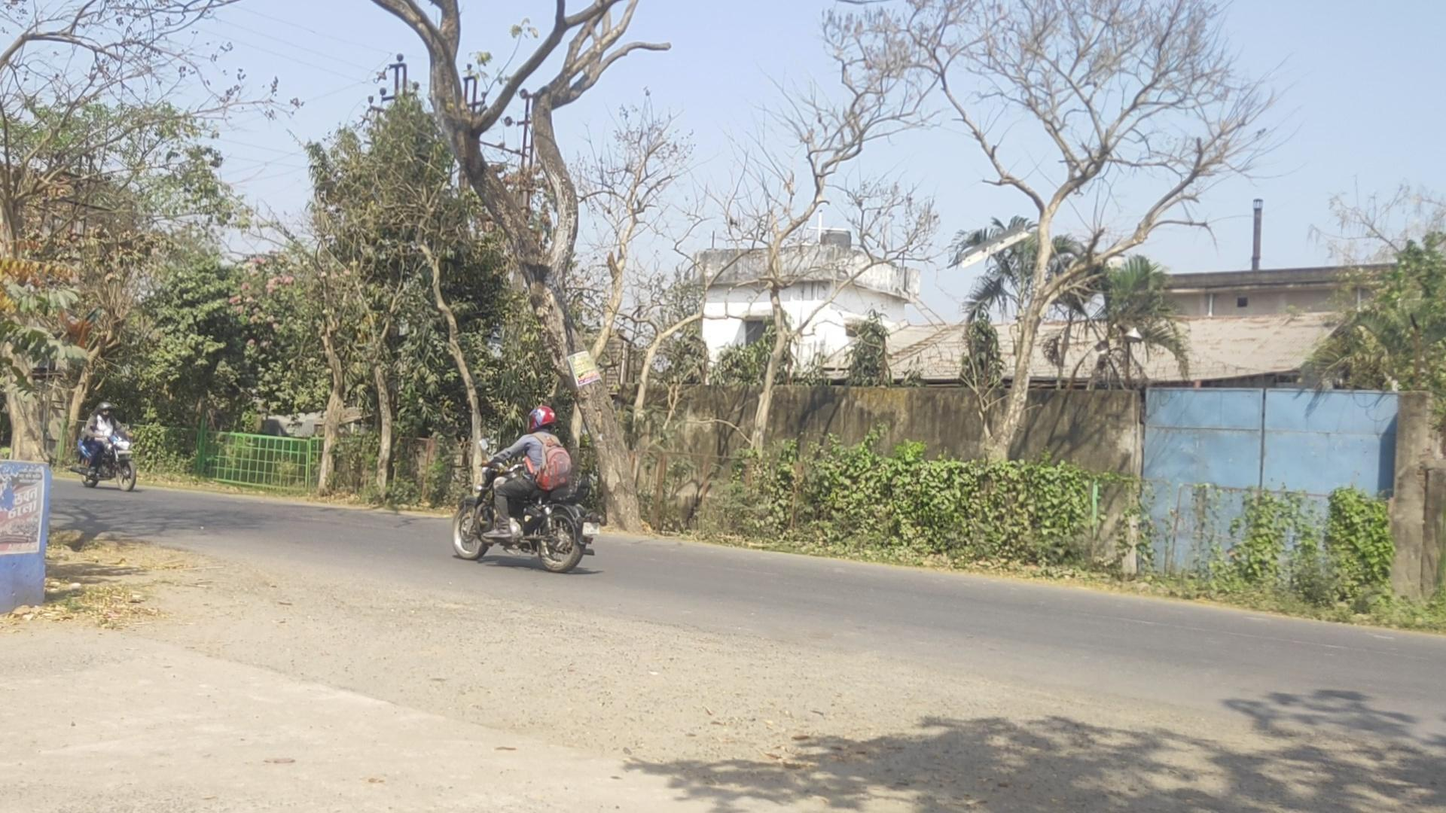bike: (451, 405, 607, 573), (69, 401, 137, 492)
